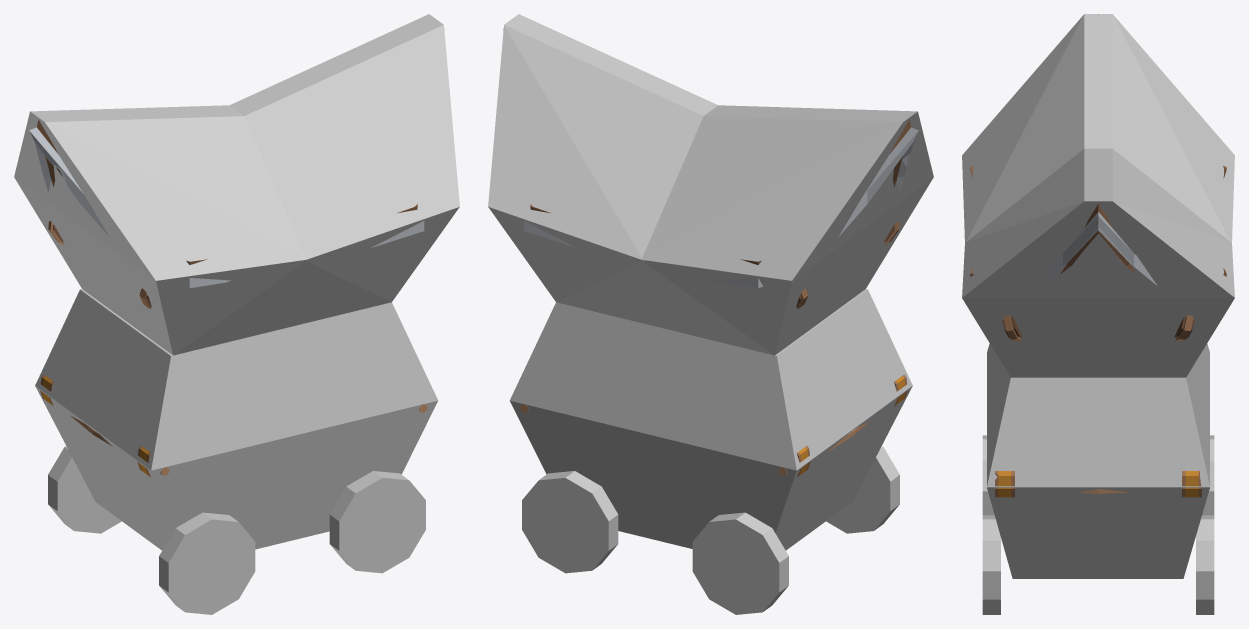
The model's file is SM_Veh_Cart_01.fbx.
3 renders of one model, left to right at view 1: azimuth 30°, elevation 25°; view 2: azimuth 150°, elevation 25°; view 3: azimuth 270°, elevation 25°, orthographic. The views are drawn at different scales.
Parts seen in each view (by area): view 1: SM_Veh_Cart_01_ConvexHulls, SM_Veh_Cart_01; view 2: SM_Veh_Cart_01_ConvexHulls, SM_Veh_Cart_01; view 3: SM_Veh_Cart_01_ConvexHulls, SM_Veh_Cart_01.
Boxes of the visible parts, x1,y1,x2,y2 form: SM_Veh_Cart_01_ConvexHulls: [14, 14, 459, 614]; SM_Veh_Cart_01: [29, 29, 444, 476]; SM_Veh_Cart_01_ConvexHulls: [488, 14, 933, 614]; SM_Veh_Cart_01: [503, 29, 918, 476]; SM_Veh_Cart_01_ConvexHulls: [962, 14, 1234, 614]; SM_Veh_Cart_01: [970, 15, 1226, 497].
Bounding box in the file's own units: 263 × 155 × 292.
Materials: 3 (2 with a texture image).
